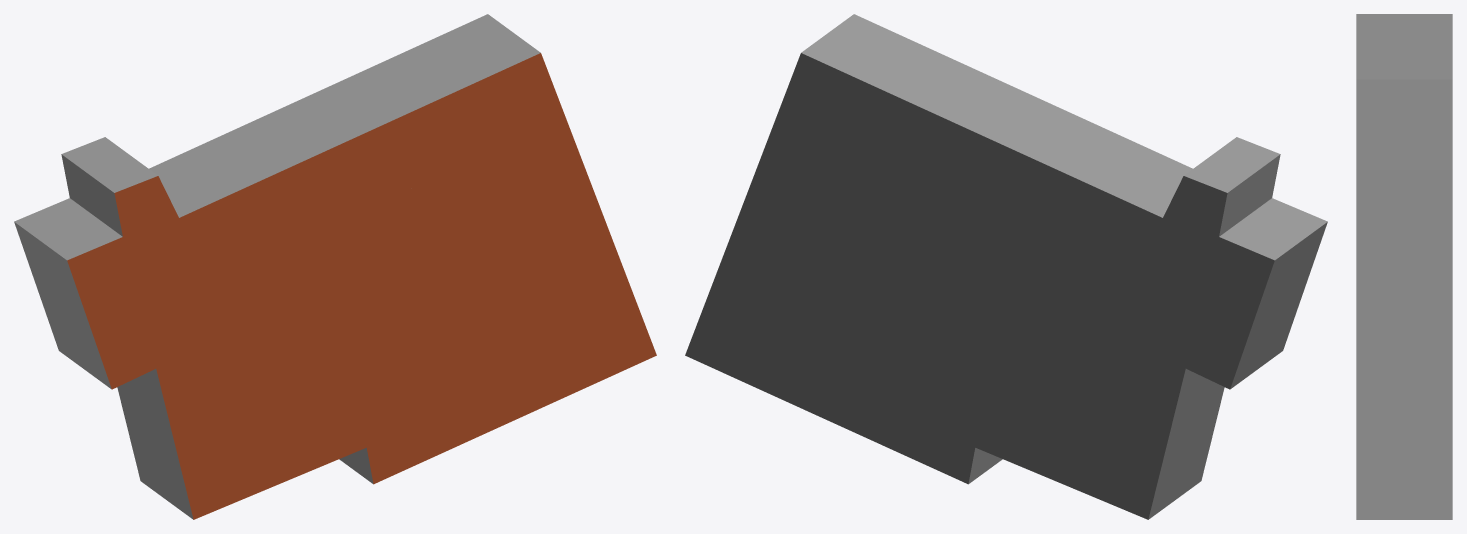
The model's file is construction_1964_assumed_A_Casa_h6m.obj.
3 renders of one model, left to right at view 1: azimuth 30°, elevation 25°; view 2: azimuth 150°, elevation 25°; view 3: azimuth 270°, elevation 25°, orthographic. The views are drawn at different scales.
Parts seen in each view (by area): view 1: construction_1964_assumed_A_Casa; view 2: construction_1964_assumed_A_Casa; view 3: construction_1964_assumed_A_Casa.
Part boxes in pixels (bbox=[...]): construction_1964_assumed_A_Casa: bbox=[14, 14, 656, 519]; construction_1964_assumed_A_Casa: bbox=[685, 14, 1327, 519]; construction_1964_assumed_A_Casa: bbox=[1356, 14, 1452, 519].
Size of the model in its own units: 38.49 by 24.36 by 6.
